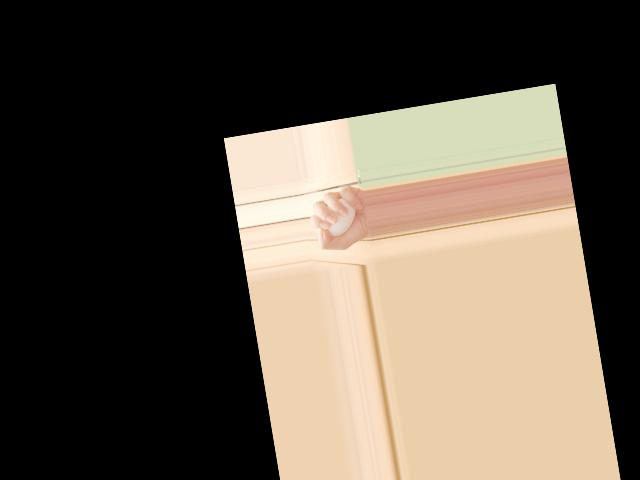egg: (320, 195, 359, 237)
